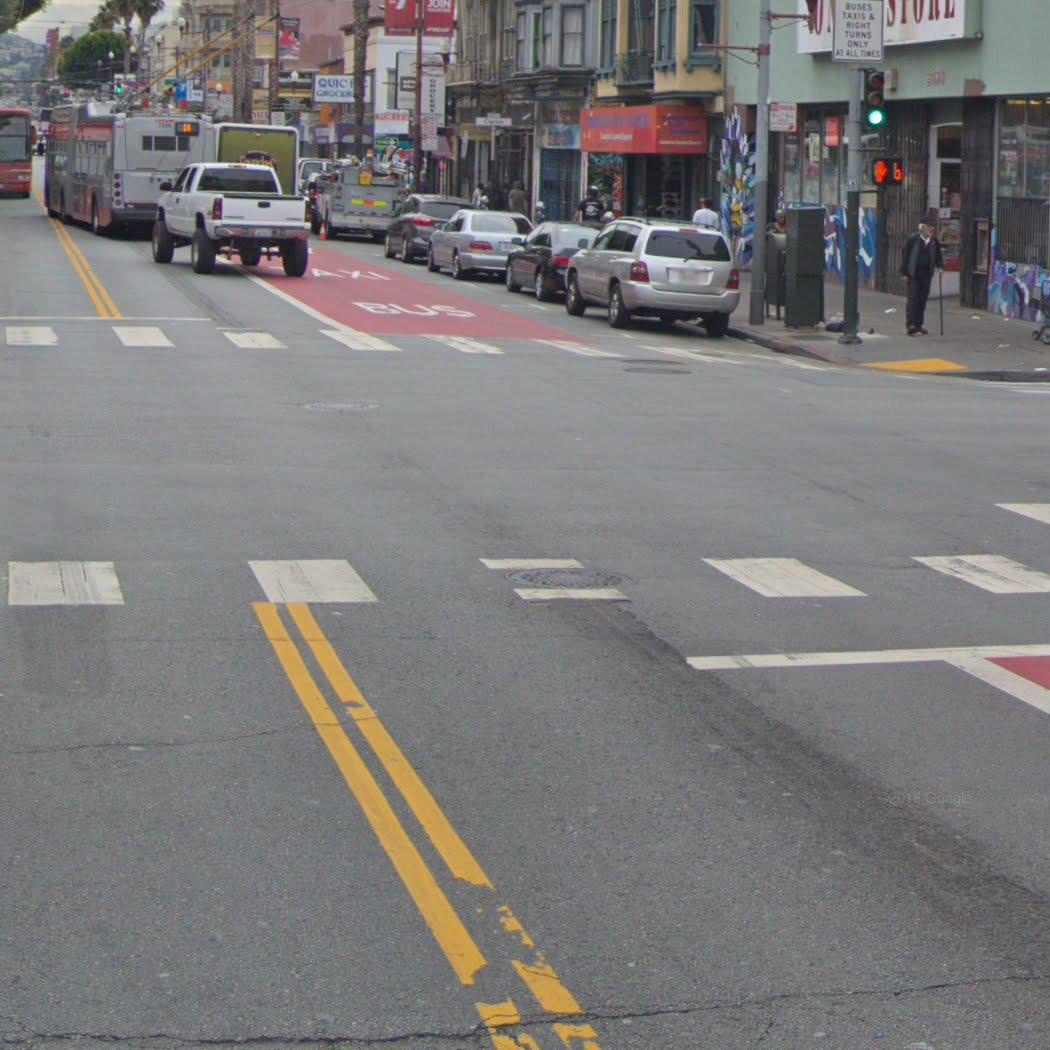No Parking: (768, 101, 797, 134)
